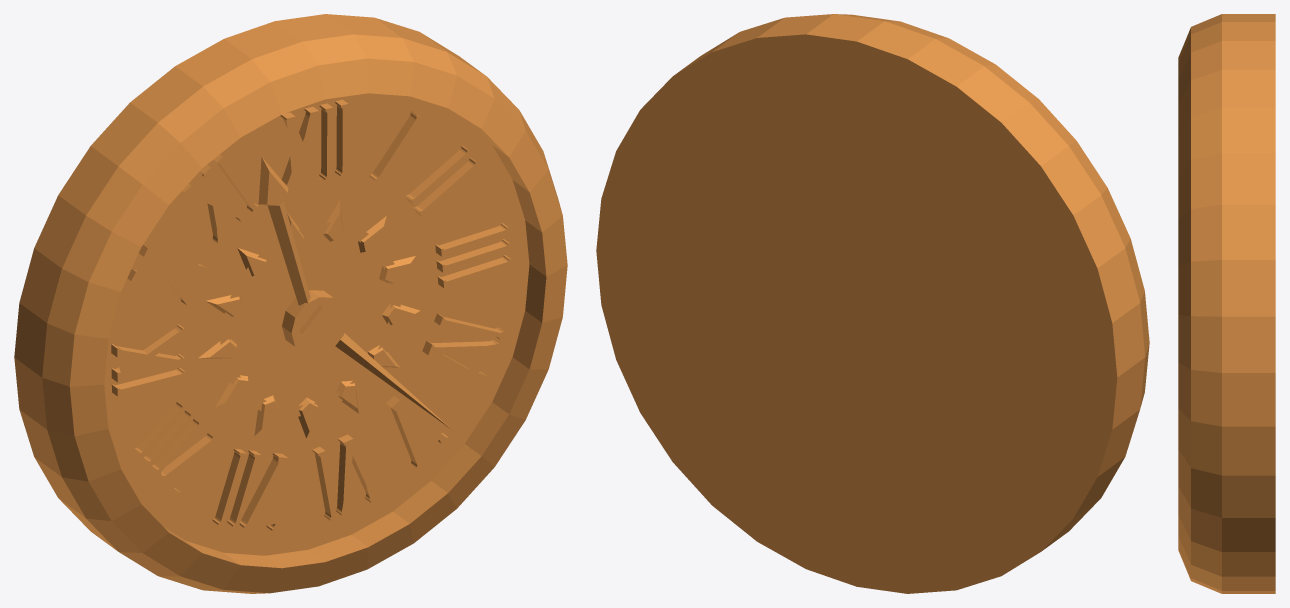
The model's file is Clock.fbx.
The picture shows the model from 3 angles, left to right: view 1: azimuth 30°, elevation 25°; view 2: azimuth 150°, elevation 25°; view 3: azimuth 270°, elevation 25°; orthographic projection. The views are drawn at different scales.
Visible parts, largest first — view 1: Text.007, Text.001, Text.002; view 2: Text.007; view 3: Text.007.
Part boxes in pixels (box(x1,y1,x2,y2)): Text.007: box(14, 14, 567, 593); Text.001: box(258, 157, 310, 305); Text.002: box(335, 333, 451, 429); Text.007: box(596, 14, 1149, 593); Text.007: box(1178, 14, 1275, 593).
Bounding box in the file's own units: 84.67 × 84.67 × 14.22.
